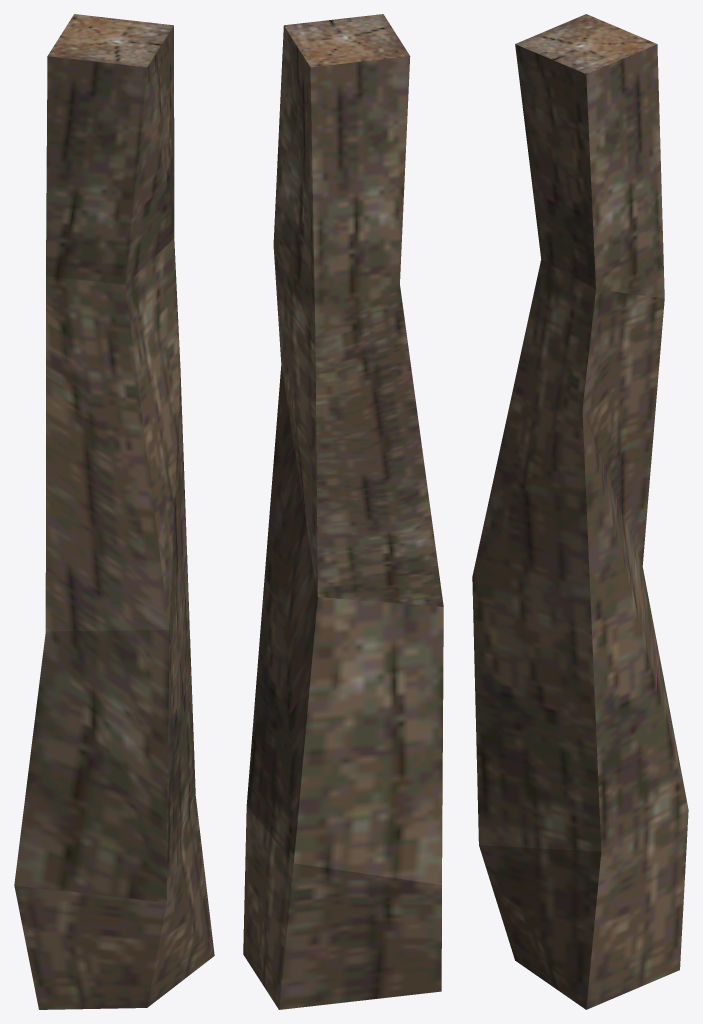
File: Urban_WoodenFencePoleAlt2_Model.fbx
3 renders of one model, left to right at view 1: azimuth 30°, elevation 25°; view 2: azimuth 150°, elevation 25°; view 3: azimuth 270°, elevation 25°, orthographic. The views are drawn at different scales.
Visible parts, largest first — view 1: Urban_WoodenFencePoleAlt2_Mesh; view 2: Urban_WoodenFencePoleAlt2_Mesh; view 3: Urban_WoodenFencePoleAlt2_Mesh.
Part boxes in pixels (x1,y1,x2,y2): Urban_WoodenFencePoleAlt2_Mesh: (14, 14, 214, 1009); Urban_WoodenFencePoleAlt2_Mesh: (243, 14, 443, 1009); Urban_WoodenFencePoleAlt2_Mesh: (472, 14, 688, 1009).
Size of the model in its own units: 0.2664 by 1.2 by 0.2564.
